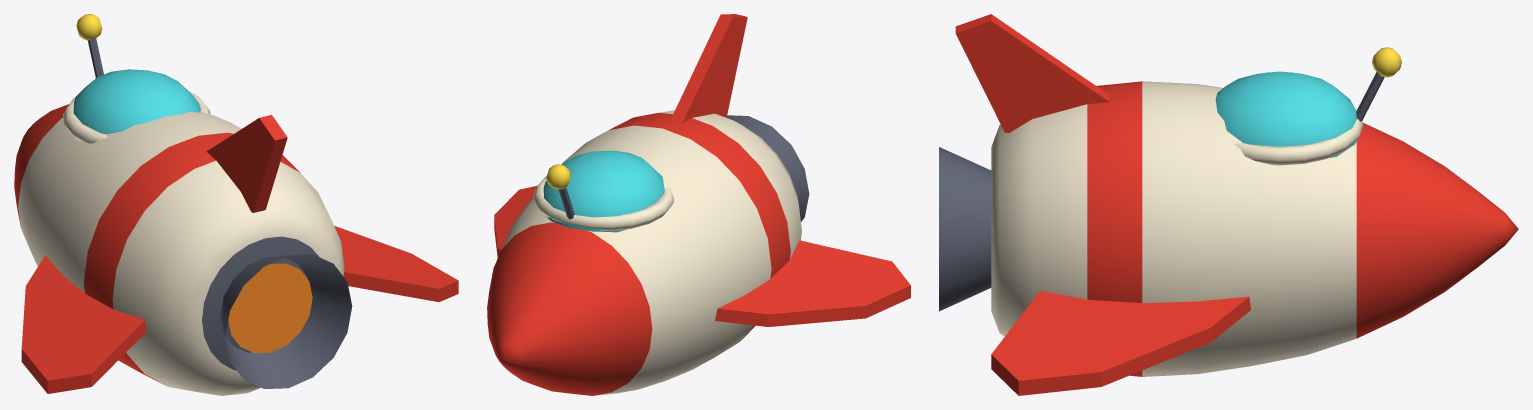
Rendered from nave.obj.
3 views of the same model, side by side, from view 1: azimuth 30°, elevation 25°; view 2: azimuth 150°, elevation 25°; view 3: azimuth 270°, elevation 25° (orthographic). The views are drawn at different scales.
Visible parts, largest first — view 1: Nave; view 2: Nave; view 3: Nave.
Part boxes in pixels (<box>): Nave: <box>14,14,458,395</box>; Nave: <box>487,14,910,395</box>; Nave: <box>939,14,1518,395</box>.
Bounding box in the file's own units: 1.94 × 1.39 × 2.11.
